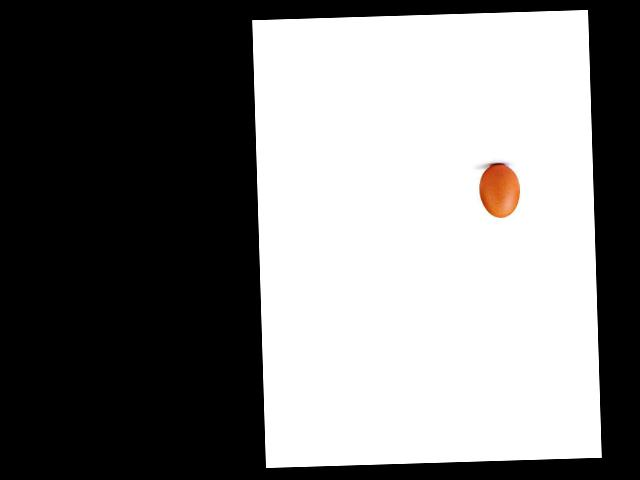egg: (478, 163, 520, 217)
